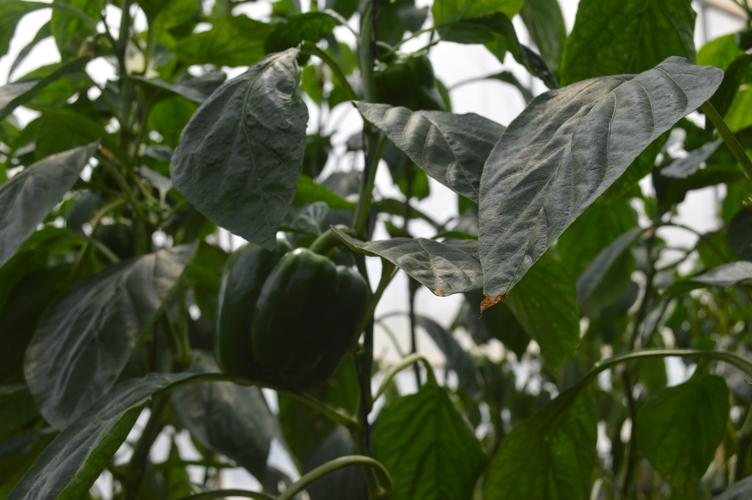BellPepper: (213, 240, 371, 397), (376, 53, 442, 115)
